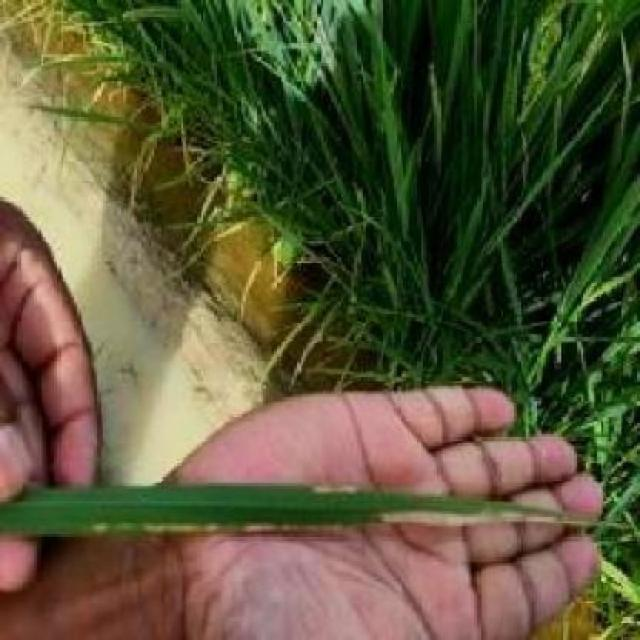Brown_Spot: (137, 472, 640, 570), (0, 492, 123, 577)
